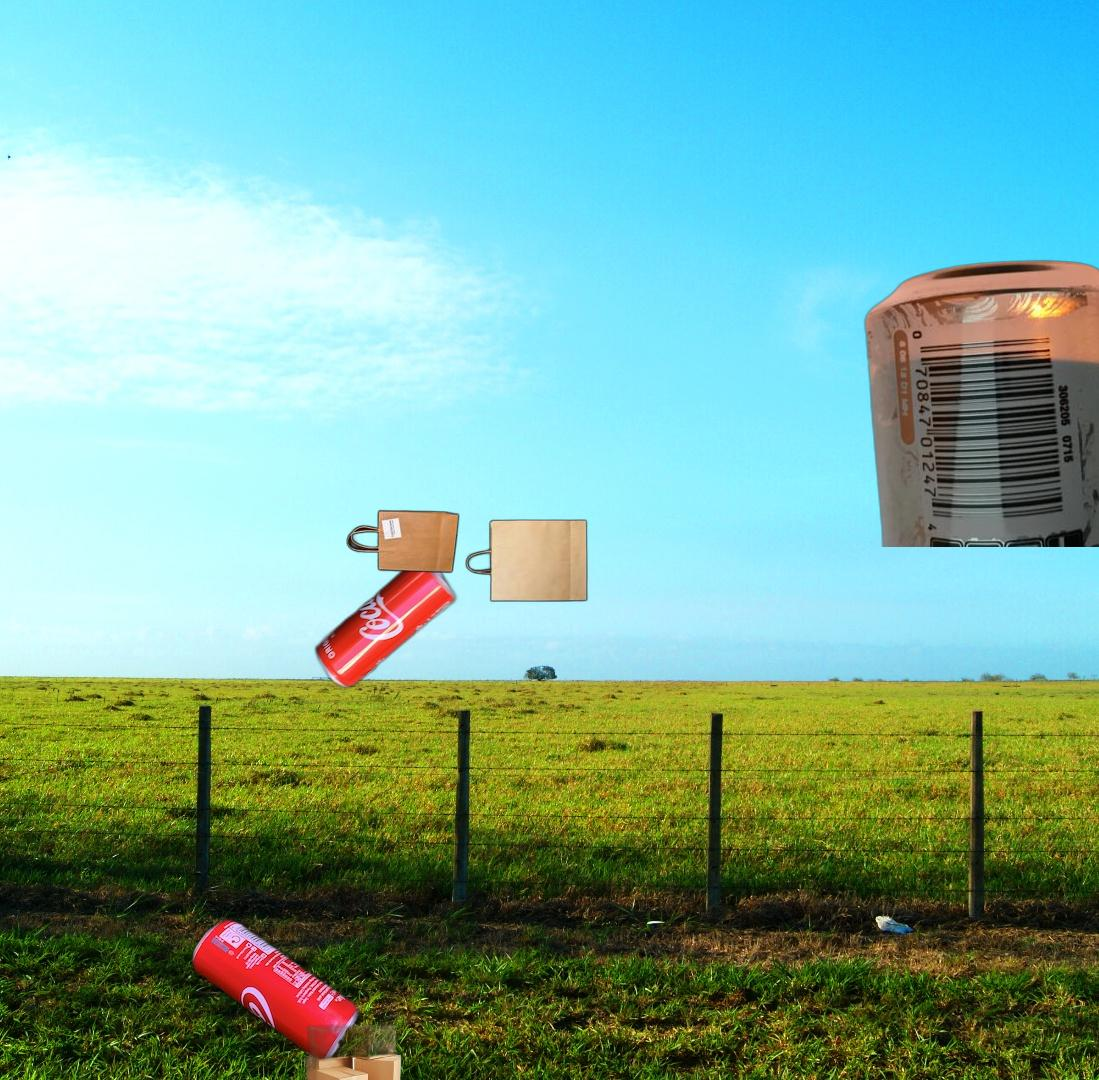metal-cans: (312, 550, 659, 937), (861, 259, 1099, 547), (188, 913, 363, 1067)
paper-bag: (313, 507, 591, 731)
trashbox-cardboard: (295, 1024, 418, 1080)
